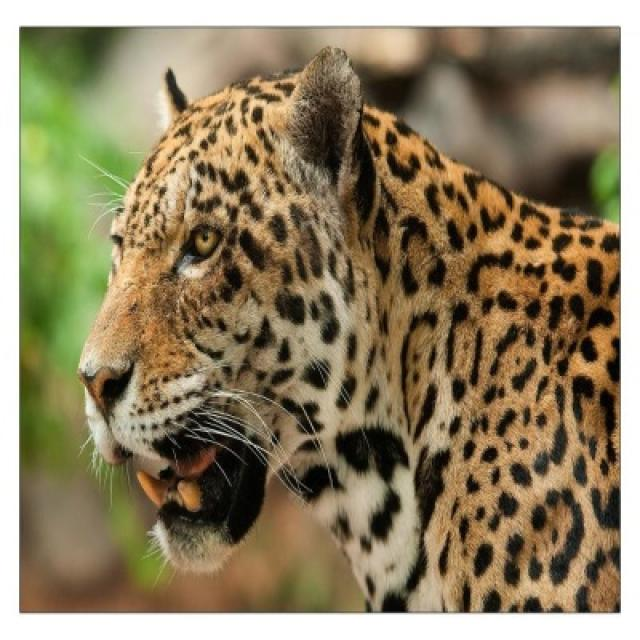Jaguar: (77, 48, 622, 616)
